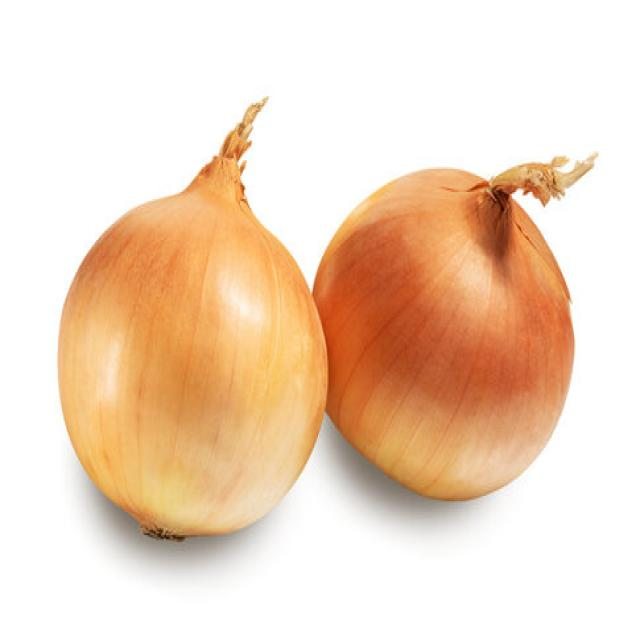Onion: (55, 94, 328, 540), (310, 149, 598, 502)
